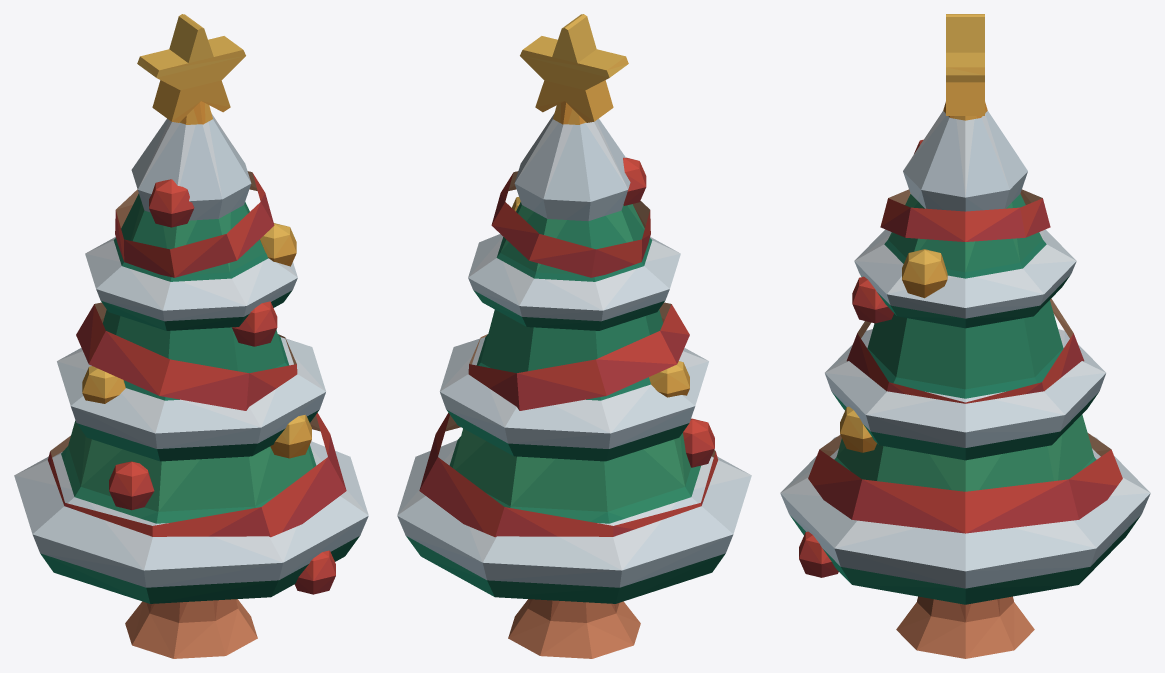
Rendered from tree_decorated.glb.
3 views of the same model, side by side, from view 1: azimuth 30°, elevation 25°; view 2: azimuth 150°, elevation 25°; view 3: azimuth 270°, elevation 25° (orthographic).
Visible parts, largest first — view 1: tree_decorated; view 2: tree_decorated; view 3: tree_decorated.
Boxes of the visible parts, <box> form: tree_decorated: <box>14,14,368,658</box>; tree_decorated: <box>397,14,751,658</box>; tree_decorated: <box>780,14,1150,658</box>.
Size of the model in its own units: 1.64 by 3 by 1.64.
